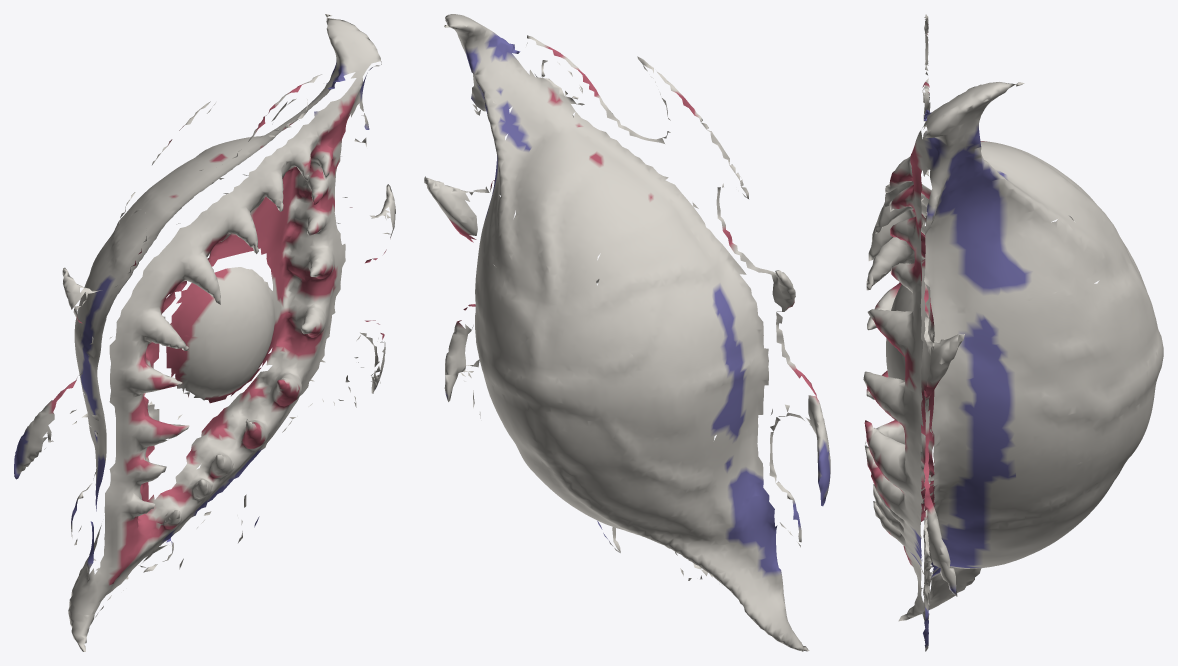
The model's file is mon3d.glb.
3 views of the same model, side by side, from view 1: azimuth 30°, elevation 25°; view 2: azimuth 150°, elevation 25°; view 3: azimuth 270°, elevation 25° (orthographic). The views are drawn at different scales.
Bounding box in the file's own units: 1.42 × 1.95 × 0.7394.
